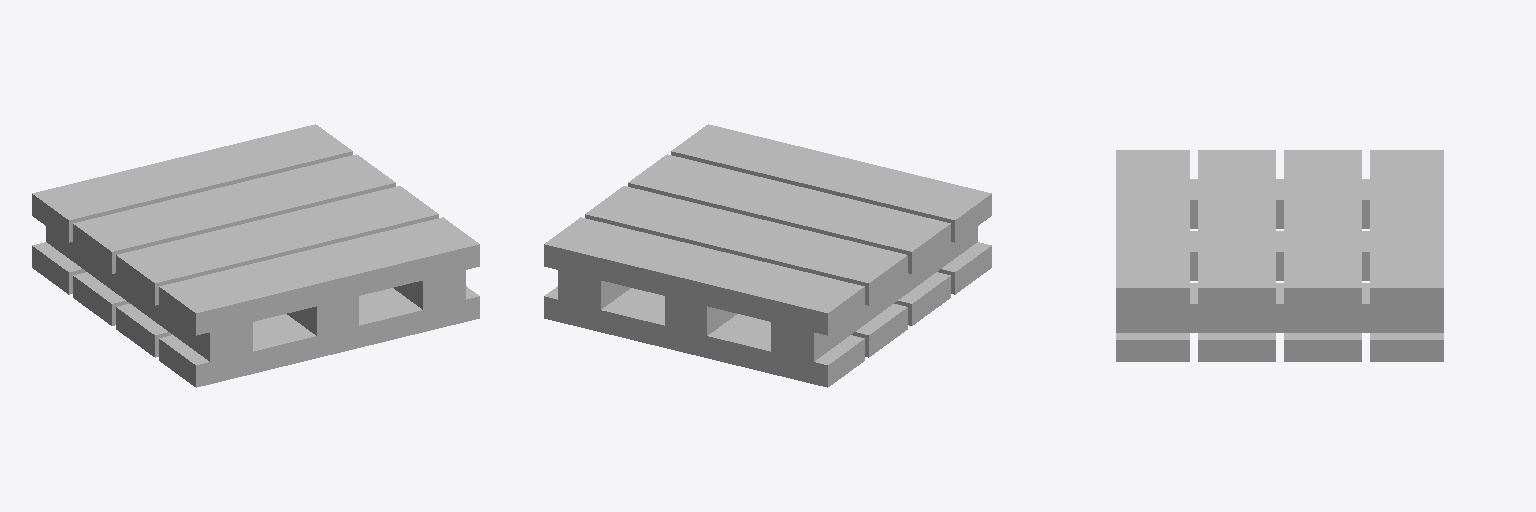
The model's file is Pallet_Small.obj.
3 views of the same model, side by side, from view 1: azimuth 30°, elevation 25°; view 2: azimuth 150°, elevation 25°; view 3: azimuth 270°, elevation 25° (orthographic).
Visible parts, largest first — view 1: Pallet_Small_Cube.025; view 2: Pallet_Small_Cube.025; view 3: Pallet_Small_Cube.025.
Part boxes in pixels (x1,y1,x2,y2): Pallet_Small_Cube.025: (32, 124, 479, 387); Pallet_Small_Cube.025: (544, 124, 991, 387); Pallet_Small_Cube.025: (1116, 150, 1443, 361).
Bounding box in the file's own units: 2 × 0.5 × 2.